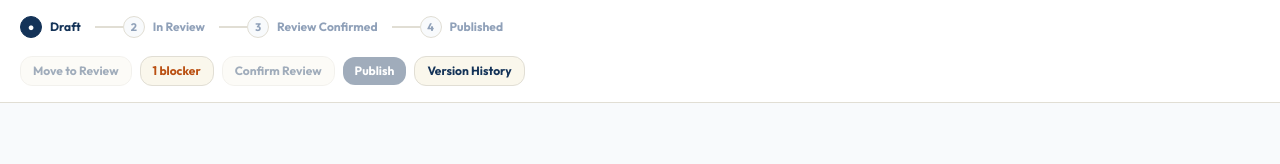
Test: PublishLifecycleBar › opening the blocker toggle lists the blocker with its kind and title
Click the button "1 blocker" at coordinates (177, 71), box [140, 56, 214, 86]
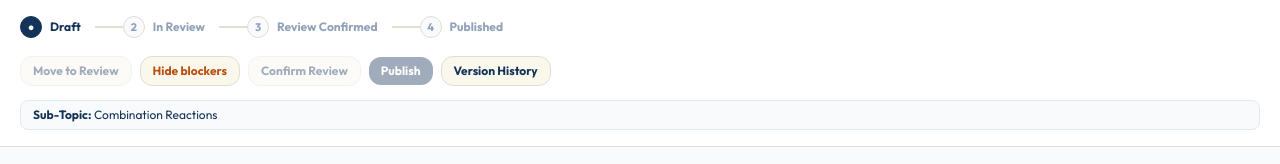
Expected: the list named "Content blocking Move to Review" shows "Sub-Topic:", [20, 100, 1260, 130]
Expected: the list named "Content blocking Move to Review" shows "Combination Reactions", [20, 100, 1260, 130]
